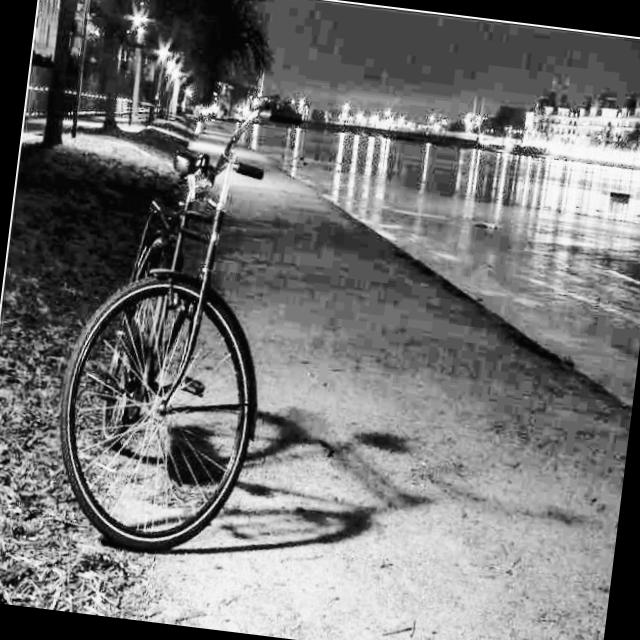Bicycle: (40, 142, 291, 560)
